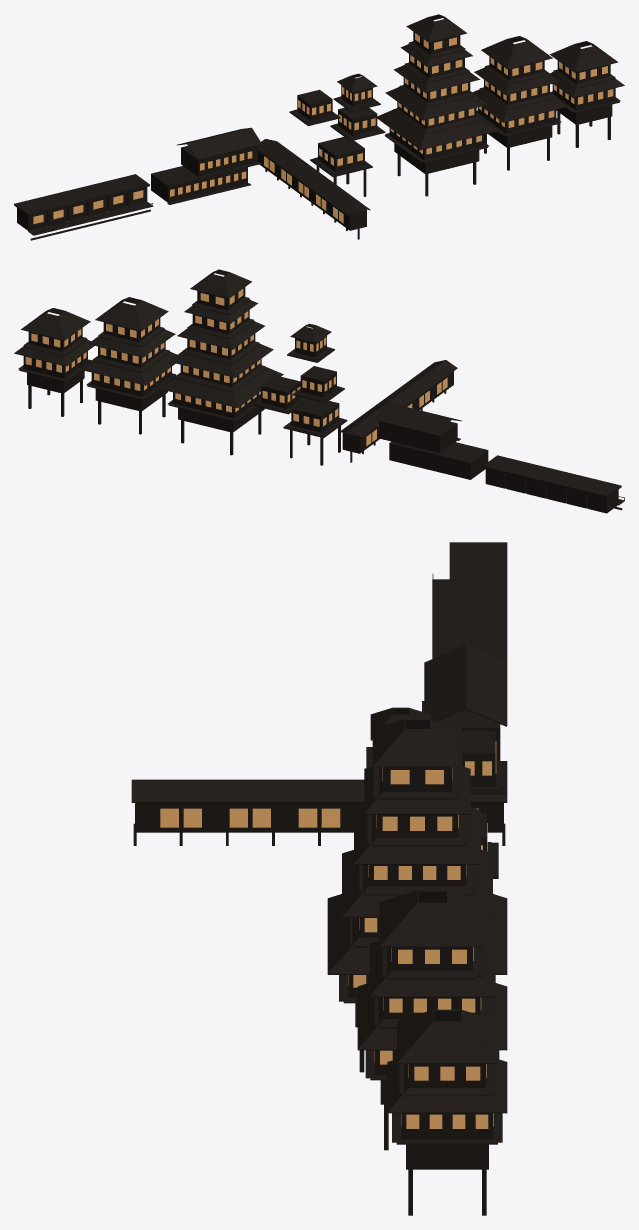
The model's file is background_architecture.glb.
3 renders of one model, top to bottom at view 1: azimuth 30°, elevation 25°; view 2: azimuth 150°, elevation 25°; view 3: azimuth 270°, elevation 25°, orthographic. The views are drawn at different scales.
Parts seen in each view (by area): view 1: IC19_BG_Tower_L__Mesh, IC19_BG_Tower_M__Mesh, IC19_BG_Suspended_Cluster__Mesh, IC19_BG_Block_Wide__Mesh, IC19_BG_Balcony_Row__Mesh, IC19_BG_Tower_S__Mesh, IC19_BG_Corridor_Distant__Mesh; view 2: IC19_BG_Tower_L__Mesh, IC19_BG_Tower_M__Mesh, IC19_BG_Suspended_Cluster__Mesh, IC19_BG_Block_Wide__Mesh, IC19_BG_Tower_S__Mesh, IC19_BG_Balcony_Row__Mesh, IC19_BG_Corridor_Distant__Mesh; view 3: IC19_BG_Tower_L__Mesh, IC19_BG_Tower_M__Mesh, IC19_BG_Tower_S__Mesh, IC19_BG_Corridor_Distant__Mesh, IC19_BG_Balcony_Row__Mesh, IC19_BG_Block_Wide__Mesh, IC19_BG_Suspended_Cluster__Mesh.
Part boxes in pixels (bbox=[...]): IC19_BG_Tower_L__Mesh: bbox=[377, 14, 497, 196]; IC19_BG_Tower_M__Mesh: bbox=[472, 36, 567, 170]; IC19_BG_Suspended_Cluster__Mesh: bbox=[289, 73, 385, 196]; IC19_BG_Block_Wide__Mesh: bbox=[151, 127, 261, 204]; IC19_BG_Balcony_Row__Mesh: bbox=[14, 174, 153, 240]; IC19_BG_Tower_S__Mesh: bbox=[549, 41, 624, 147]; IC19_BG_Corridor_Distant__Mesh: bbox=[258, 139, 370, 239]; IC19_BG_Tower_L__Mesh: bbox=[158, 269, 283, 455]; IC19_BG_Tower_M__Mesh: bbox=[80, 297, 177, 434]; IC19_BG_Suspended_Cluster__Mesh: bbox=[253, 323, 347, 465]; IC19_BG_Block_Wide__Mesh: bbox=[375, 403, 488, 479]; IC19_BG_Tower_S__Mesh: bbox=[14, 308, 94, 416]; IC19_BG_Balcony_Row__Mesh: bbox=[482, 455, 624, 513]; IC19_BG_Corridor_Distant__Mesh: bbox=[338, 360, 457, 462]; IC19_BG_Tower_L__Mesh: bbox=[327, 718, 507, 1072]; IC19_BG_Tower_M__Mesh: bbox=[357, 890, 507, 1150]; IC19_BG_Tower_S__Mesh: bbox=[387, 1009, 507, 1215]; IC19_BG_Corridor_Distant__Mesh: bbox=[131, 779, 507, 845]; IC19_BG_Balcony_Row__Mesh: bbox=[432, 542, 507, 661]; IC19_BG_Block_Wide__Mesh: bbox=[422, 645, 507, 760]; IC19_BG_Suspended_Cluster__Mesh: bbox=[366, 707, 507, 878].
Bounding box in the file's own units: 116 × 31.04 × 32.6.
2 materials, 1 textured.
